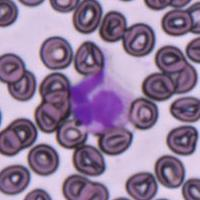N: (69, 69, 133, 134)
